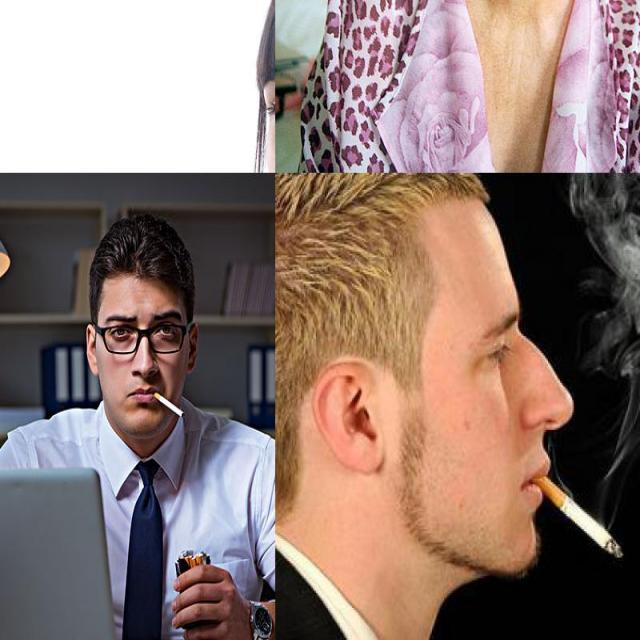cigarette: (526, 466, 630, 570), (153, 392, 186, 421)
